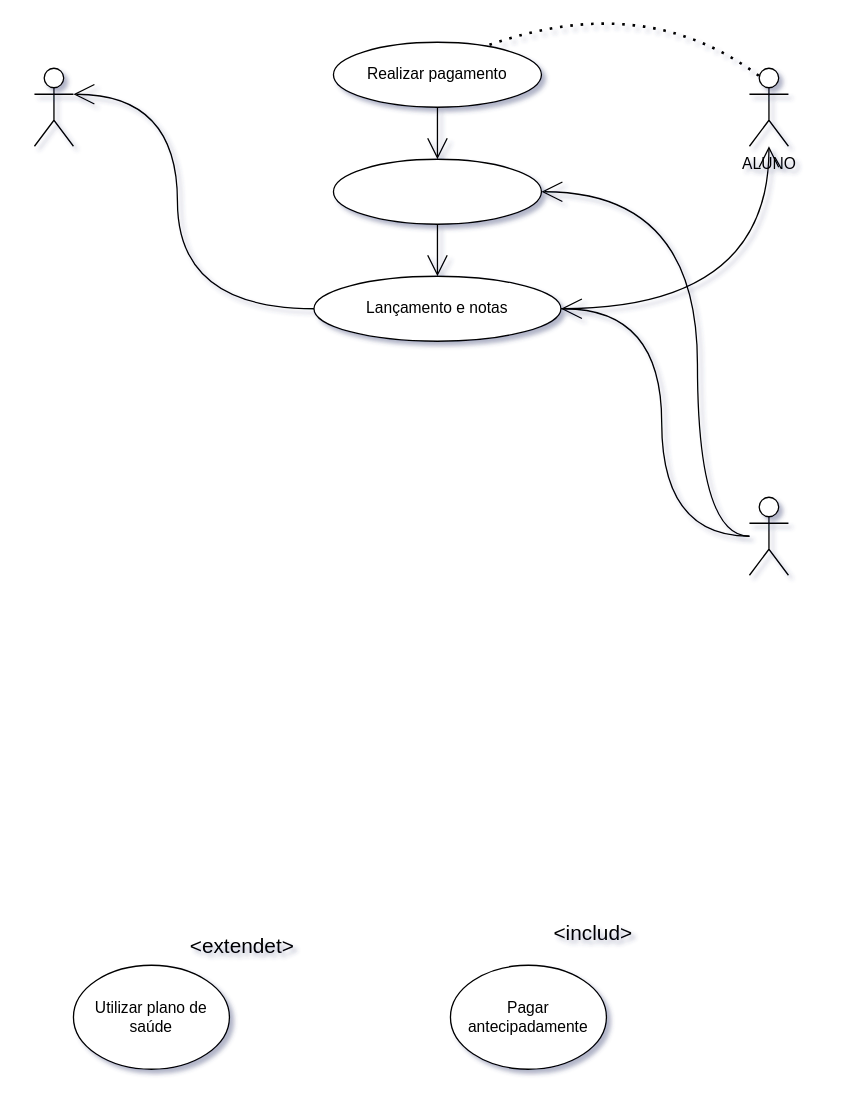
Image size: 848x1100. Some labels were removed from this diagram. The shapes that lost their labels are listed below. From the top down, each one's box as (x1, y1, x2, y2) in pixels, then its label:
(33, 67, 73, 146): ESCOLA
(332, 158, 541, 224): Realização das aulas
(748, 496, 788, 575): PROFESSOR
